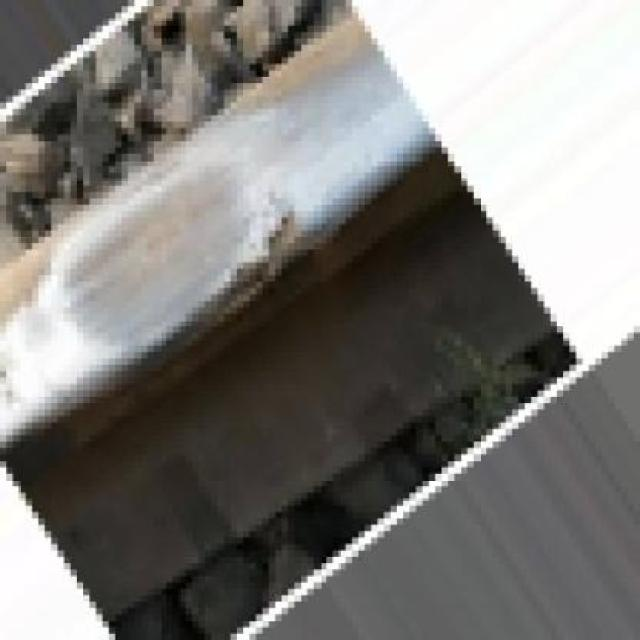defective: (17, 112, 404, 424)
